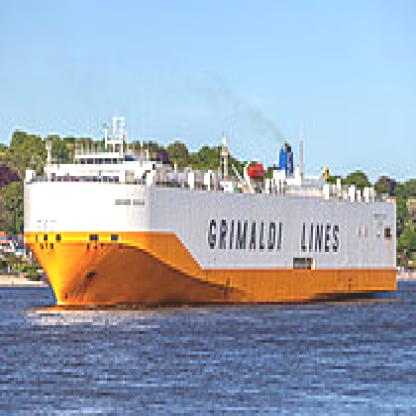Tanker: (29, 179, 393, 321)
